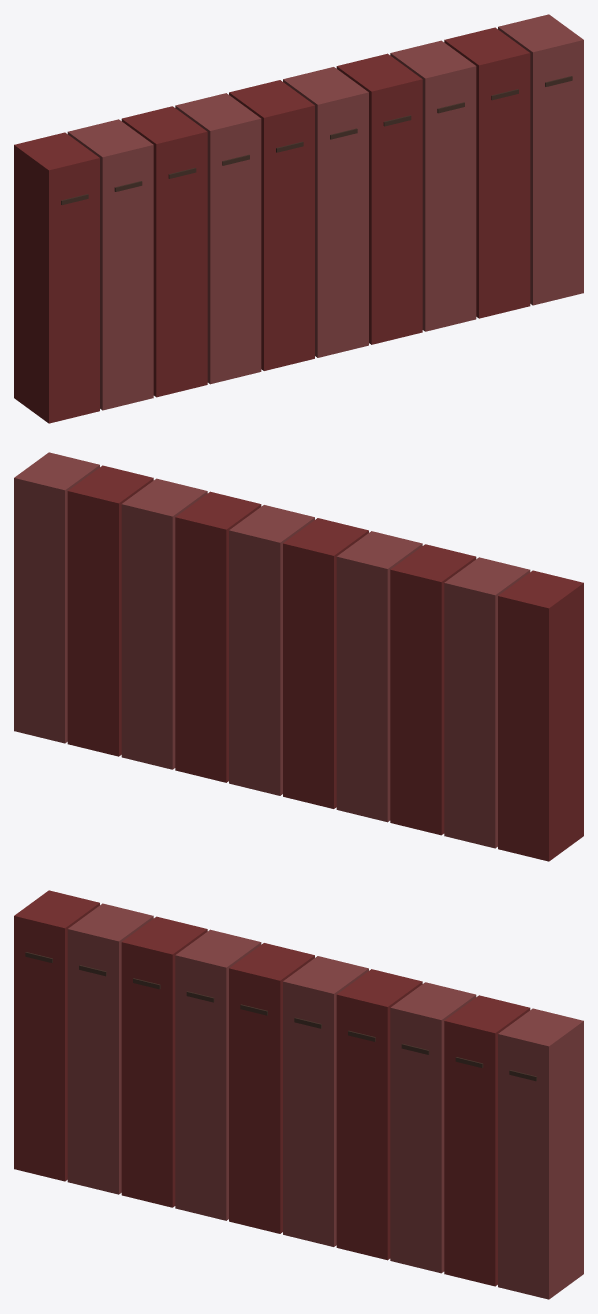
File: middle_lockers.glb
3 views of the same model, one above another, from view 1: azimuth 30°, elevation 25°; view 2: azimuth 150°, elevation 25°; view 3: azimuth 330°, elevation 25° (orthographic).
Parts seen in each view (by area): view 1: Box1, Box15, Box7, Box17, Box5, Box13, Box19, Box3, Box9, Box11; view 2: Box1, Box5, Box15, Box17, Box7, Box13, Box19, Box3, Box11, Box9; view 3: Box19, Box5, Box3, Box13, Box15, Box7, Box1, Box11, Box17, Box9.
Boxes of the visible parts, x1,y1,x2,y2 form: Box1: [14, 132, 99, 423]; Box15: [390, 40, 476, 331]; Box7: [175, 93, 261, 384]; Box17: [444, 27, 530, 318]; Box5: [121, 106, 207, 397]; Box13: [336, 53, 422, 344]; Box19: [498, 14, 583, 305]; Box3: [67, 119, 153, 410]; Box9: [229, 80, 314, 370]; Box11: [283, 67, 368, 357]; Box1: [498, 570, 583, 861]; Box5: [390, 544, 476, 835]; Box15: [121, 478, 207, 769]; Box17: [67, 465, 153, 756]; Box7: [336, 531, 422, 822]; Box13: [175, 491, 261, 782]; Box19: [14, 452, 99, 743]; Box3: [444, 557, 530, 848]; Box11: [229, 505, 314, 795]; Box9: [283, 518, 368, 808]; Box19: [498, 1008, 583, 1299]; Box5: [121, 916, 207, 1207]; Box3: [67, 903, 153, 1194]; Box13: [336, 969, 422, 1260]; Box15: [390, 982, 476, 1273]; Box7: [175, 929, 261, 1220]; Box1: [14, 890, 99, 1181]; Box11: [283, 956, 368, 1246]; Box17: [444, 995, 530, 1286]; Box9: [229, 943, 314, 1233].
Size of the model in its own units: 3.98 by 1.8 by 0.46.
